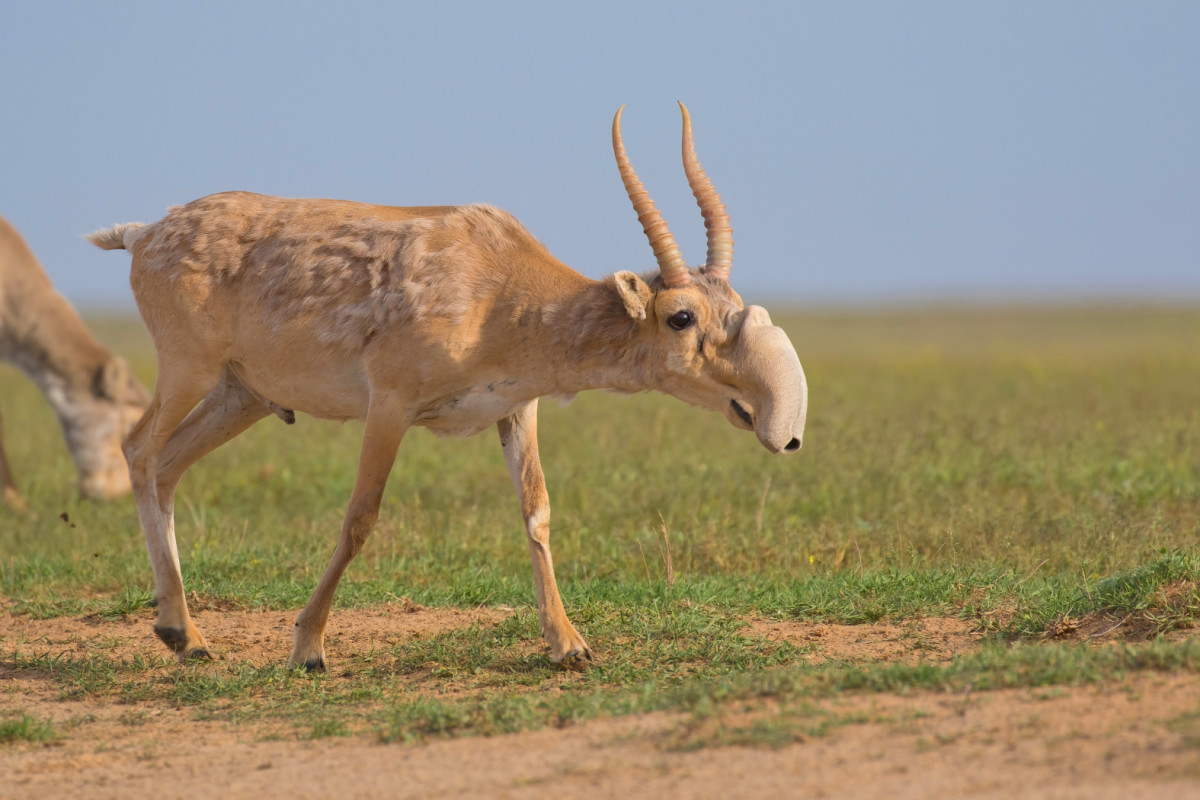saiga: (82, 101, 810, 675)
